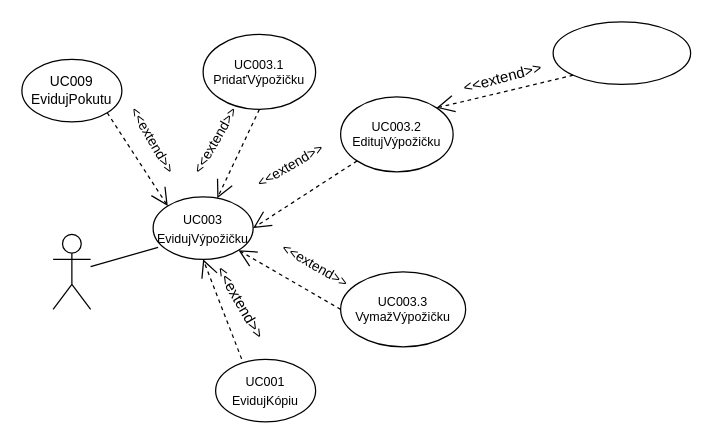
This 713x444 diagram has some shape labels left out. Each missing label, with the centre of its shape:
UC003.4 PredĺžiťVýpožičnú Lehotu: (x=621, y=52)
Zamestnanec: (x=71, y=271)
